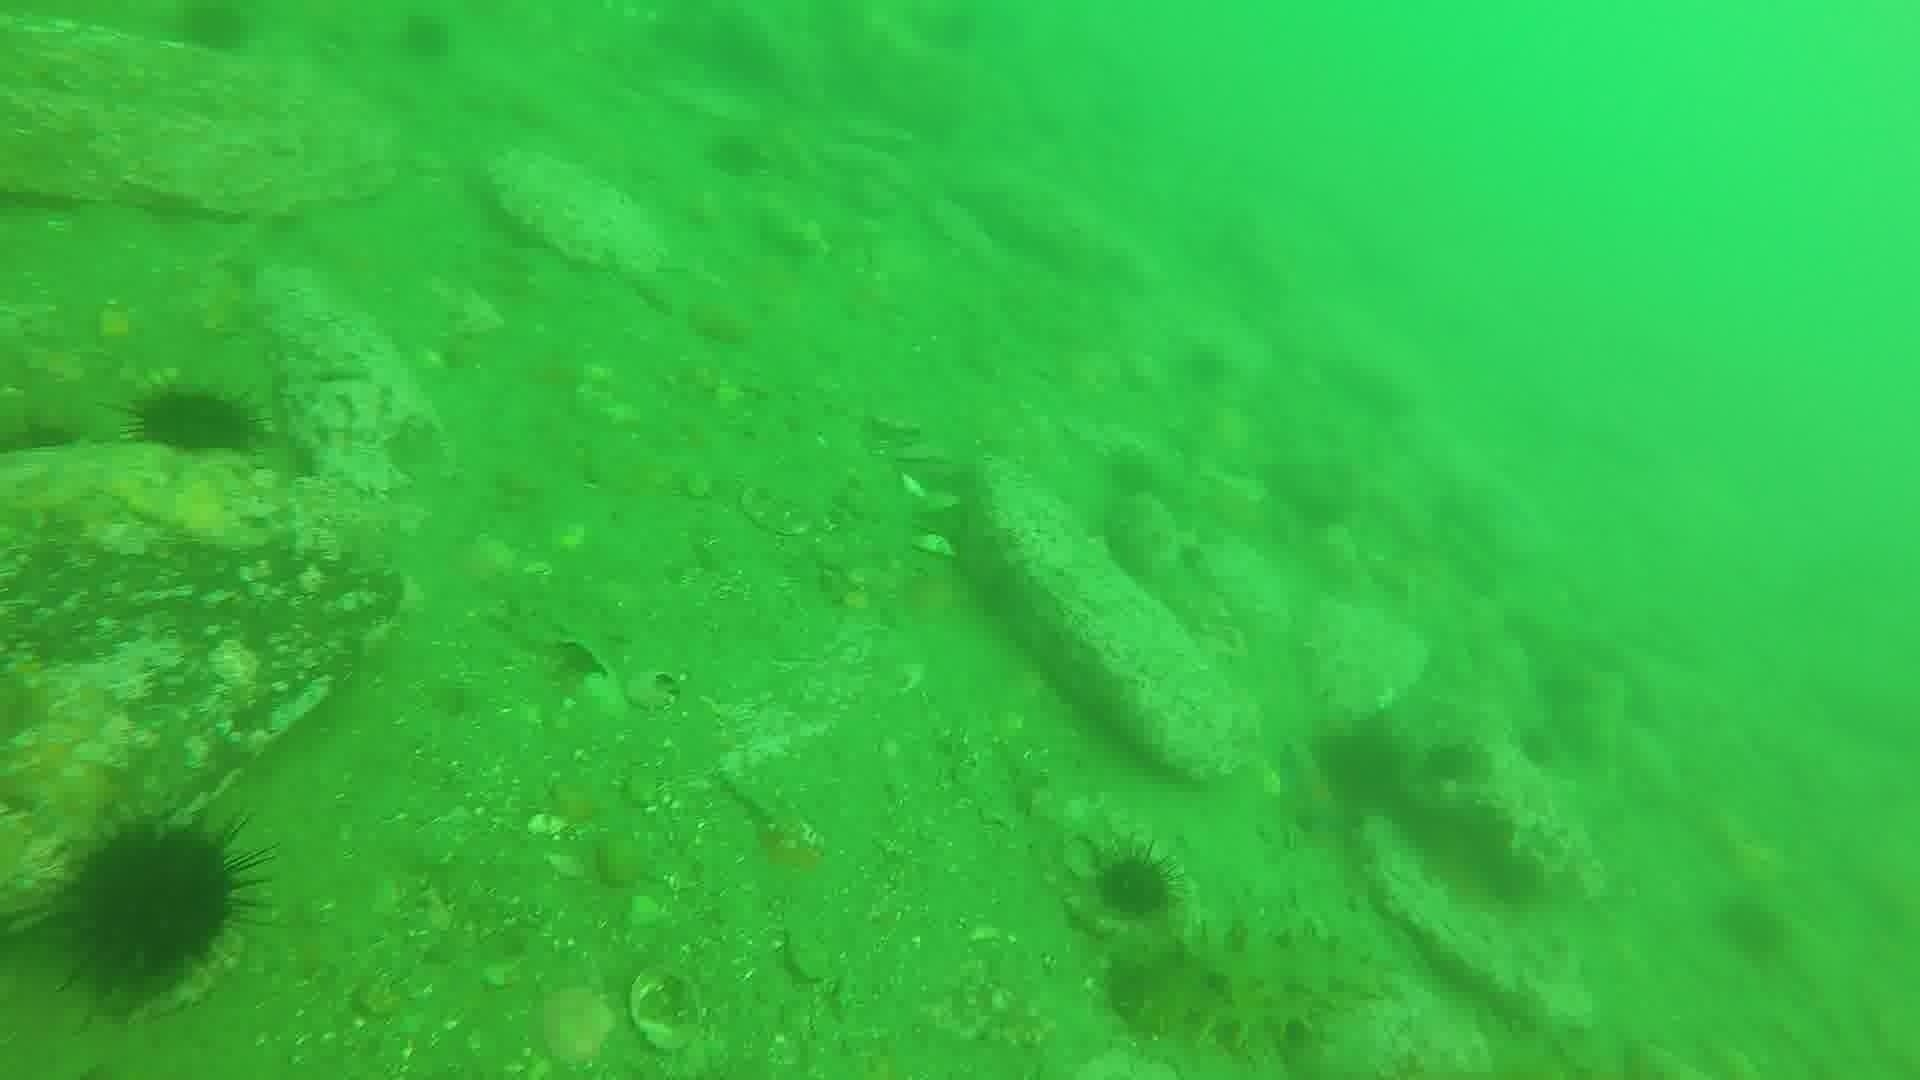echinus: (53, 810, 268, 997), (124, 378, 265, 465), (1309, 715, 1410, 814), (1087, 841, 1183, 924), (1712, 890, 1793, 967), (167, 1, 258, 61), (1416, 733, 1493, 795), (702, 127, 771, 185), (392, 11, 460, 67)
holothurian: (1101, 915, 1387, 1052)
starfish: (1270, 741, 1353, 841)
